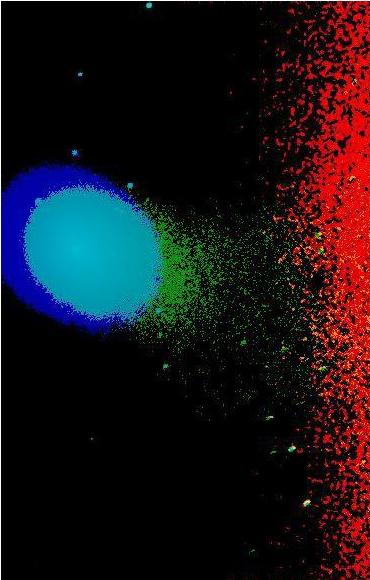star: (128, 182, 158, 212)
